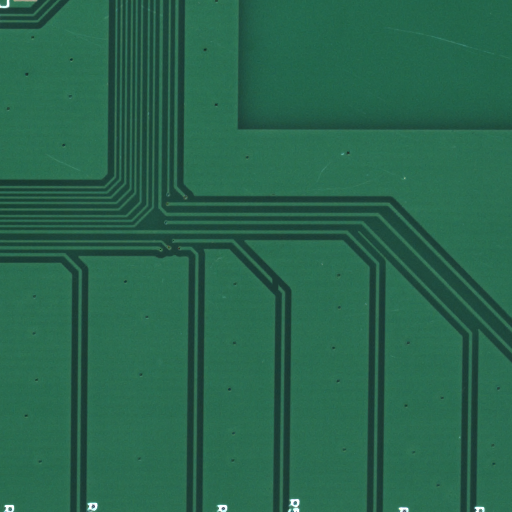Open_circuit: (275, 285, 289, 308)
